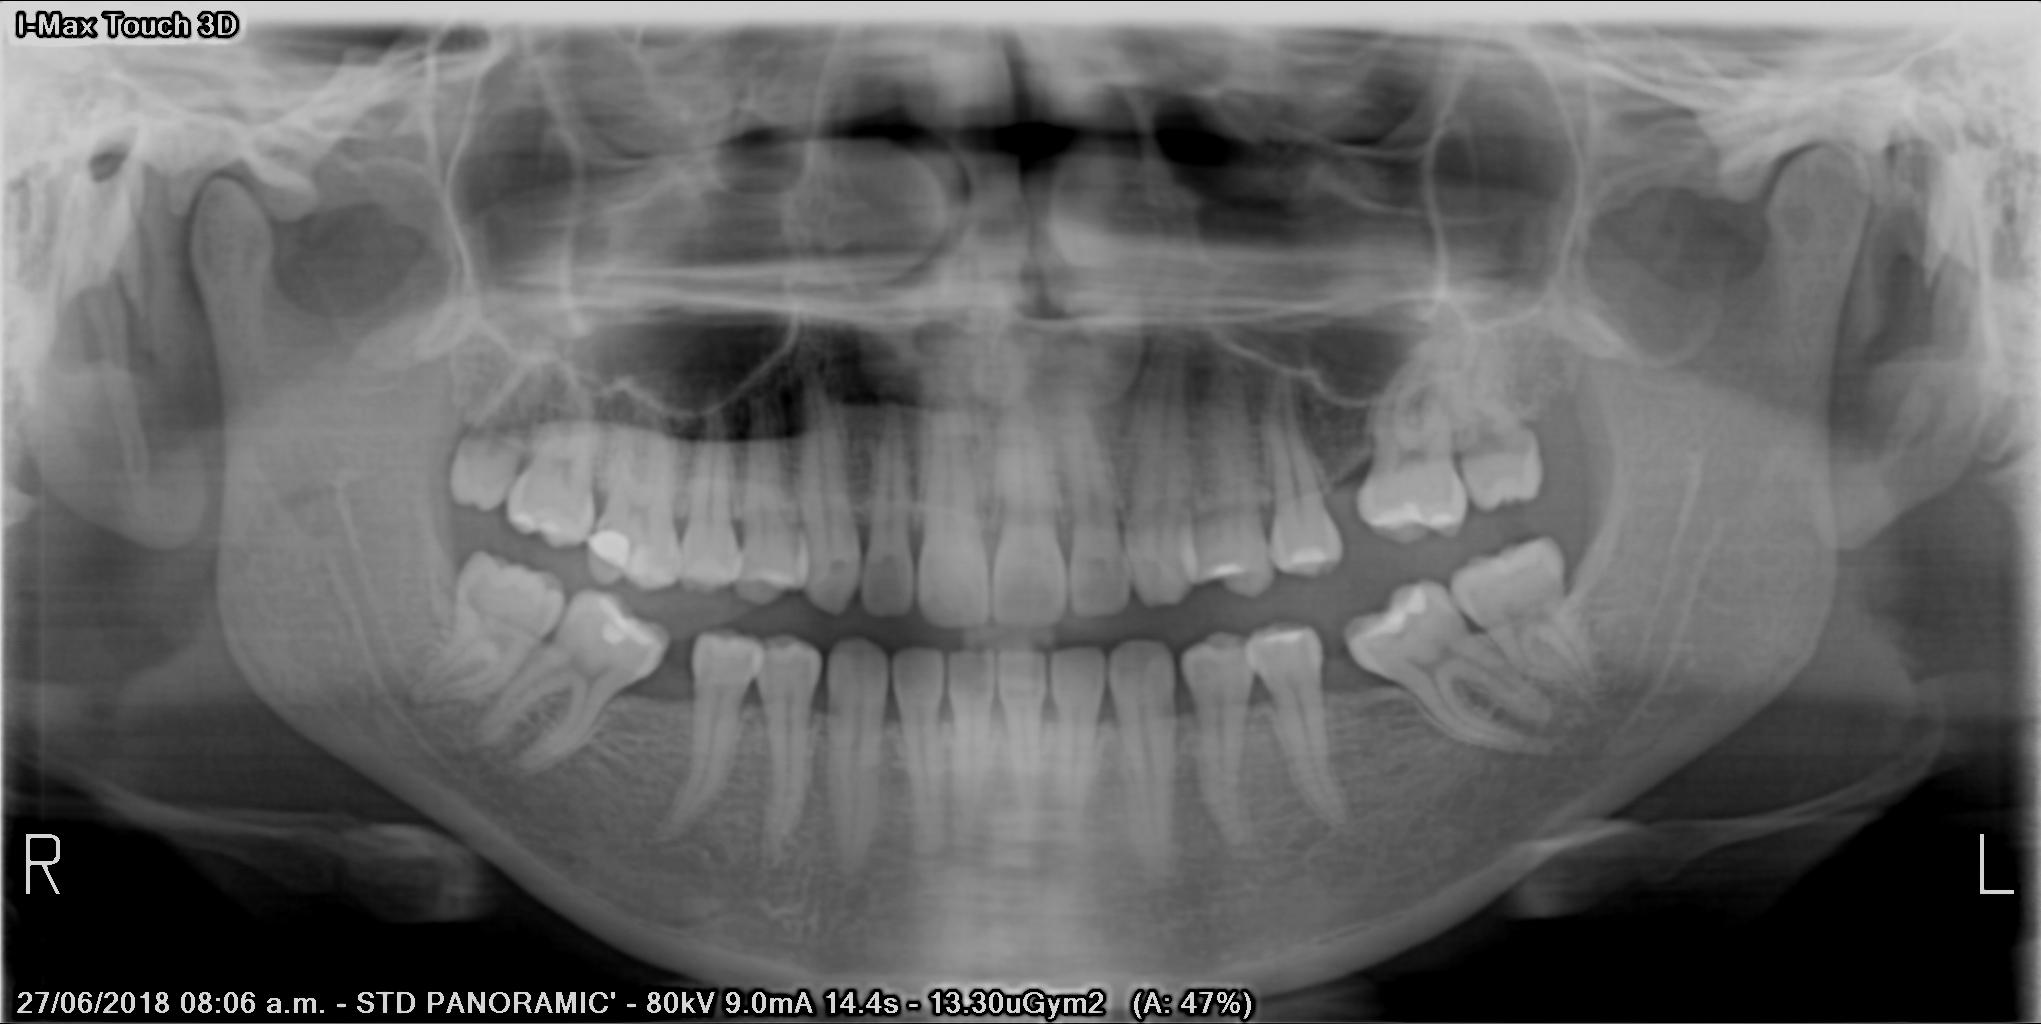Çürük: (595, 600, 662, 666), (578, 520, 648, 571)
